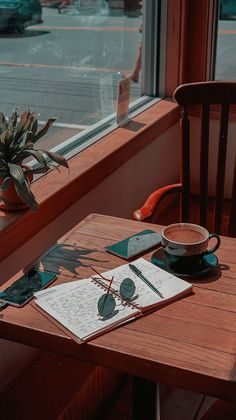caffee: (157, 224, 229, 272)
glasses: (99, 276, 137, 318)
note: (102, 225, 155, 261)
phone: (10, 266, 53, 309)
